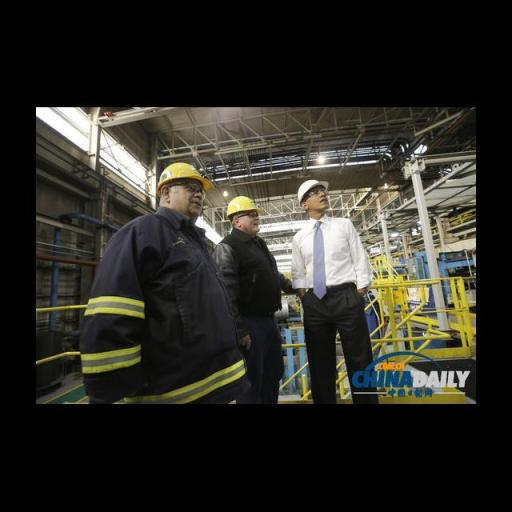Person: (84, 134, 244, 416), (274, 166, 388, 409), (214, 191, 300, 391)
helmet: (152, 158, 218, 193), (292, 174, 335, 206), (221, 193, 267, 219)
none: (286, 212, 372, 294)
vest: (82, 213, 260, 406)
